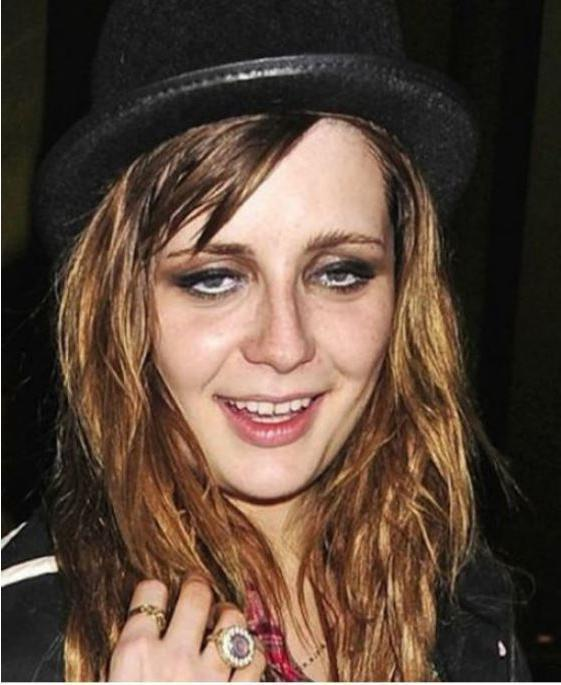Drunk: (156, 159, 387, 496)
